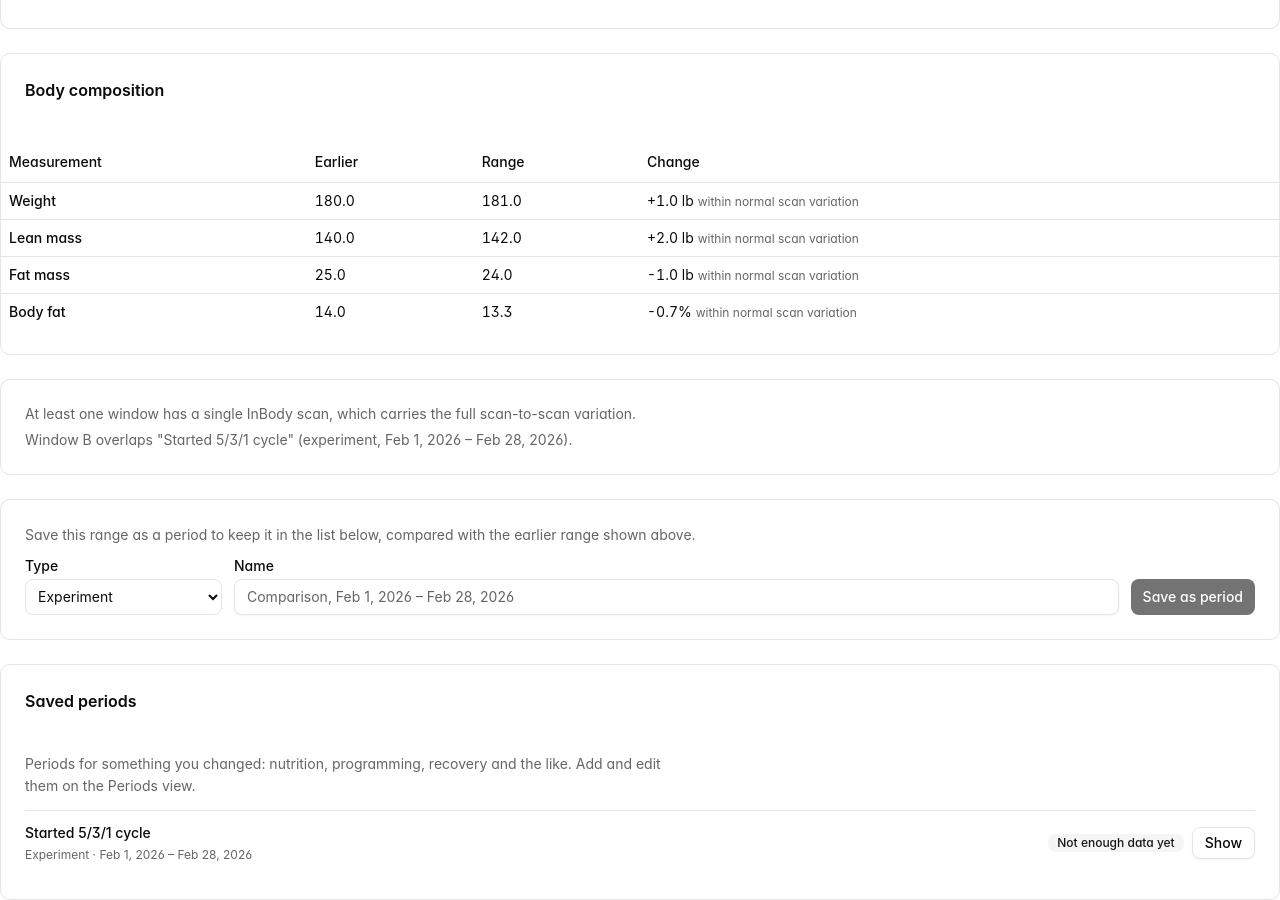
Test: CompareTab — saved ranges › shows the specific reason for an insufficient_data verdict, and no numbers
(page scrolled)
Click the button named "Show \"Started 5/3/1 cycle\"". click: (1223, 843)
box: x1=1192 y1=827 x2=1255 y2=859
(page scrolled)
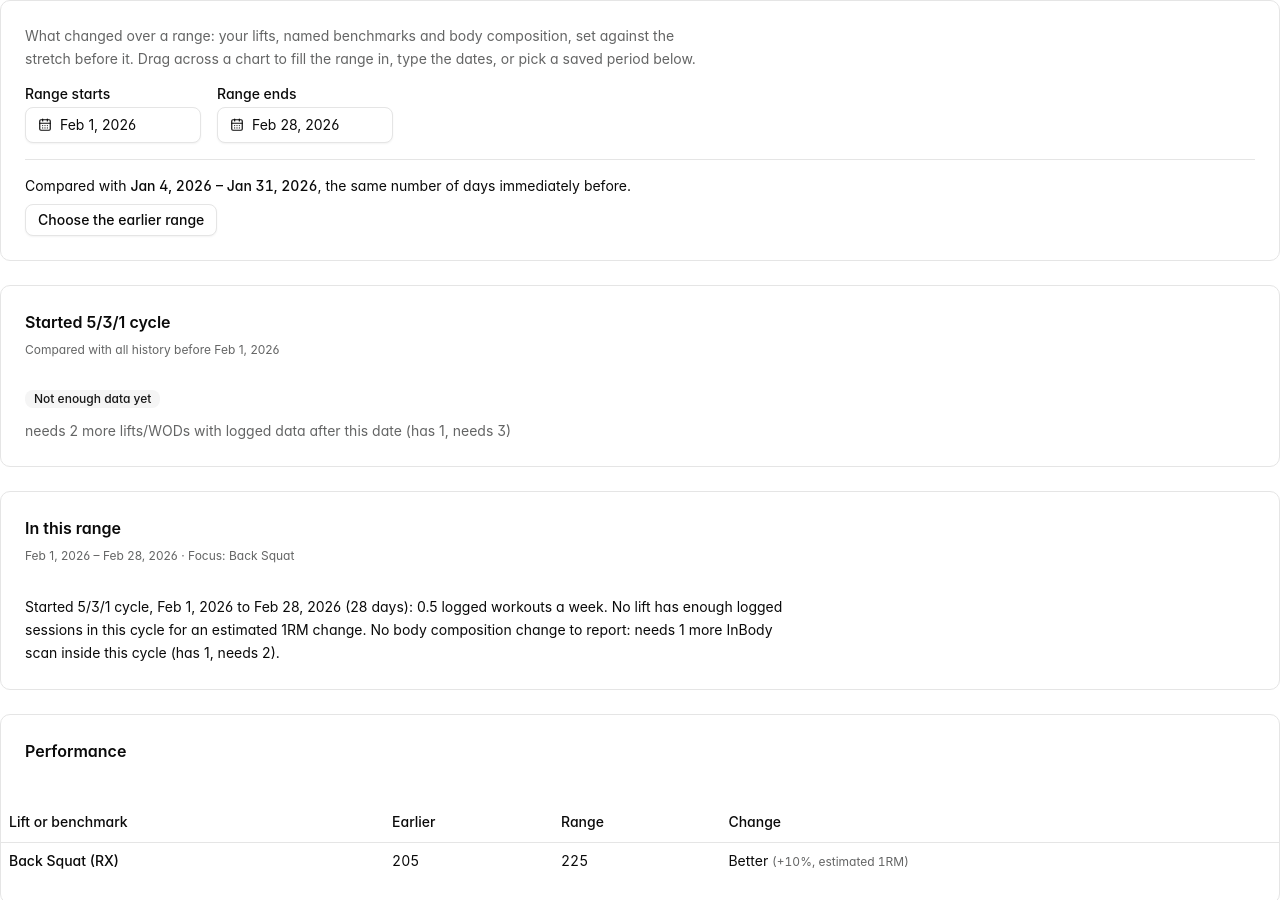
Result: the text "needs 2 more lifts/WODs with logged data after this date (has 1, needs 3)" is shown at x1=25 y1=422 x2=511 y2=438
